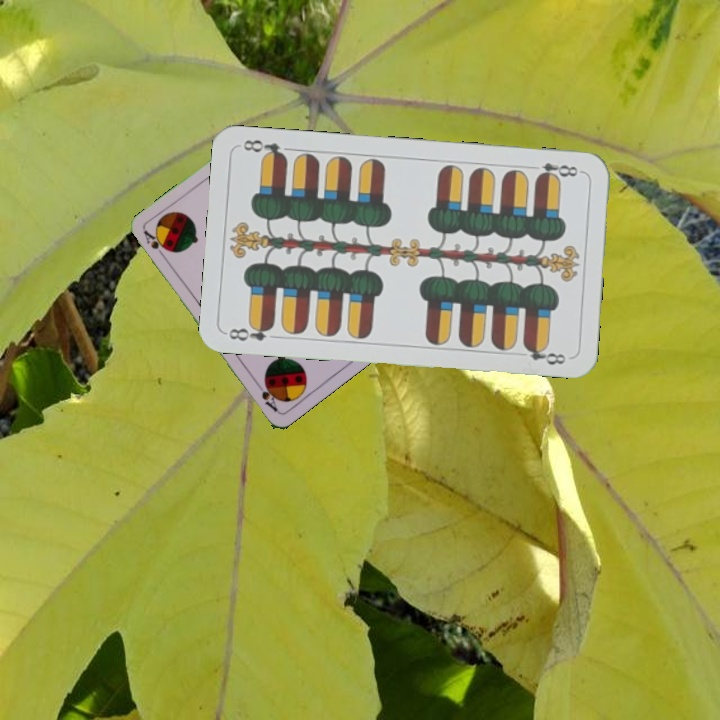E8: (526, 158, 585, 183), (225, 319, 277, 344)
SA: (140, 227, 169, 262)
